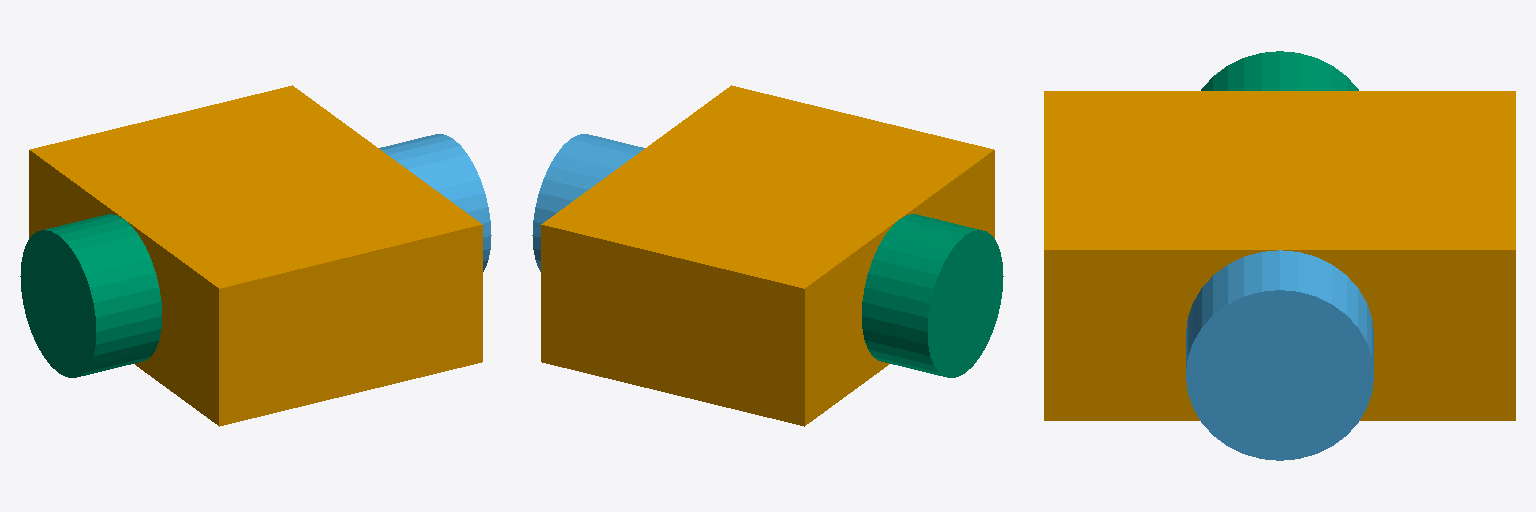
The robot description file, URDF, robot "dagu_wild_thumper":
<?xml version="1.0"?>
<robot name="dagu_wild_thumper">
  <link name="base_link">
    <visual>
      <geometry>
        <box size="0.4 0.5 0.2"/>
        <origin xyz="0 0 .2" rpy="0 0 0"/>
      </geometry>
    </visual>
  </link>
    <link name="left_wheel">
        <visual>
        <geometry>
            <cylinder length="0.1" radius="0.1"/>
            <origin xyz="0.25 0 0" rpy="0 0 0"/>
        </geometry>
        </visual>
    </link>
    <joint name="left_wheel_joint" type="continuous">
        <parent link="base_link"/>
        <child link="left_wheel"/>
        <origin xyz="0.25 0 0" rpy="0 1.57075 0"/>
        <axis xyz="0 0 1"/>
        </joint>

    <link name="right_wheel">
        <visual>
        <geometry>
            <cylinder length="0.1" radius="0.1"/>
        </geometry>
        </visual>
        <origin xyz="-0.25 0 0" rpy="0 0 0"/>
    </link>
    <joint name="right_wheel_joint" type="continuous">
        <parent link="base_link"/>
        <child link="right_wheel"/>
        <origin xyz="-0.25 0 0" rpy="0 1.57075 0"/>
        <axis xyz="0 0 1"/>
    </joint>

</robot>

--- What the picture shows (computed from the rendered views, not written in the file) ---
The picture shows the robot from 3 angles, left to right: view 1: azimuth 30°, elevation 25°; view 2: azimuth 150°, elevation 25°; view 3: azimuth 270°, elevation 25°; orthographic projection.
Model dagu_wild_thumper with 3 links and 2 joints (2 continuous), rooted at base_link, posed all joints at 0.
Links seen in each view (by area): view 1: base_link, right_wheel, left_wheel; view 2: base_link, right_wheel, left_wheel; view 3: base_link, left_wheel, right_wheel.
Boxes of the visible links, x1,y1,x2,y2 form: base_link: (29,85,482,426); right_wheel: (20,214,161,377); left_wheel: (379,134,491,271); base_link: (541,85,994,426); right_wheel: (862,214,1003,377); left_wheel: (532,134,644,271); base_link: (1044,91,1515,420); left_wheel: (1186,250,1373,460); right_wheel: (1201,51,1358,90).
Bounding box of the posed robot: 0.6 × 0.5 × 0.2 m (x, y, z).
Geometry: primitives only (box / cylinder / sphere), no mesh files.